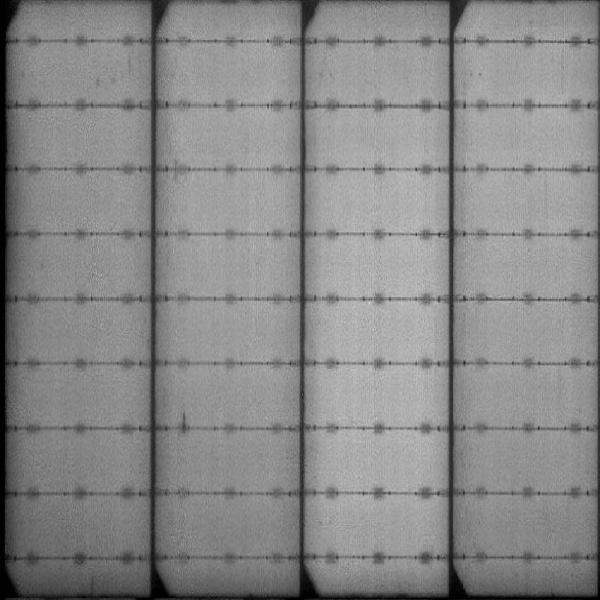scratch: (177, 408, 189, 435)
